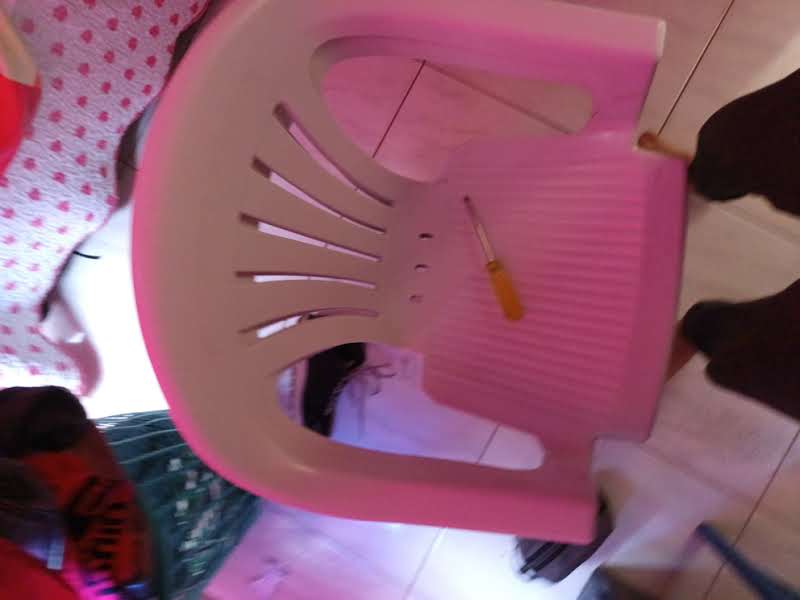Destornillador: (464, 196, 523, 320)
